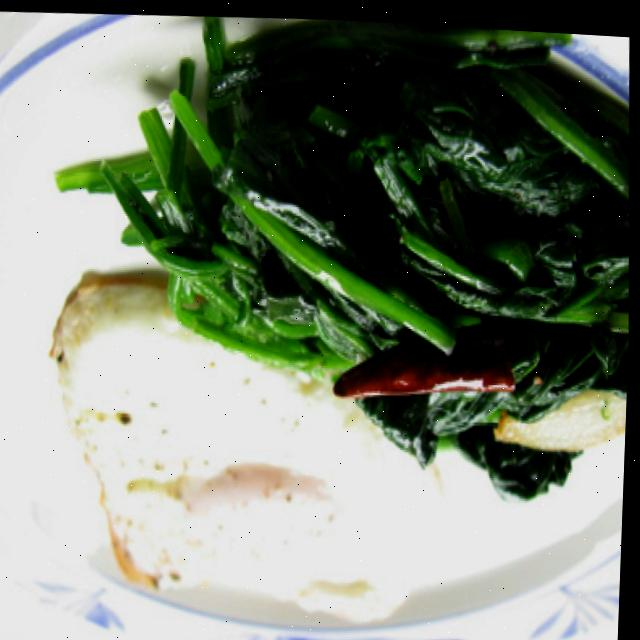蔬菜料理: (29, 2, 640, 541)
